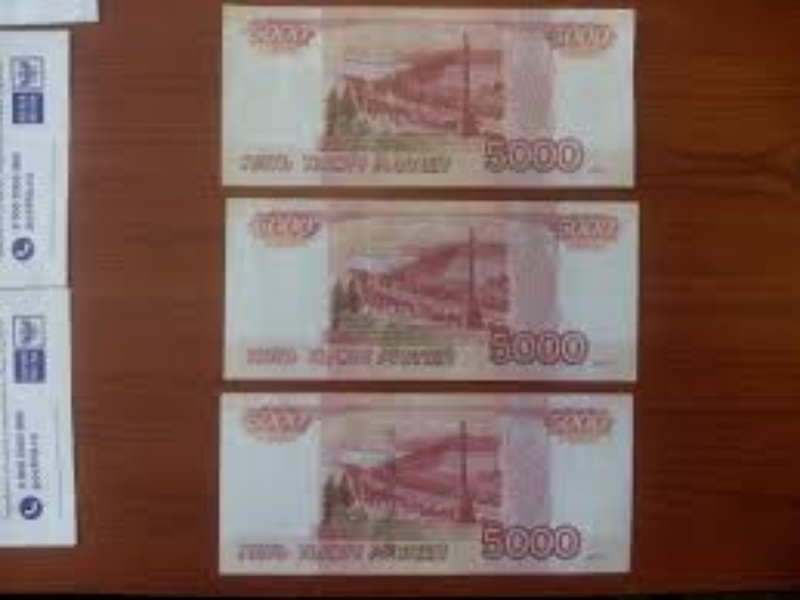cash: (223, 4, 635, 184), (224, 199, 636, 379), (219, 393, 633, 572)
